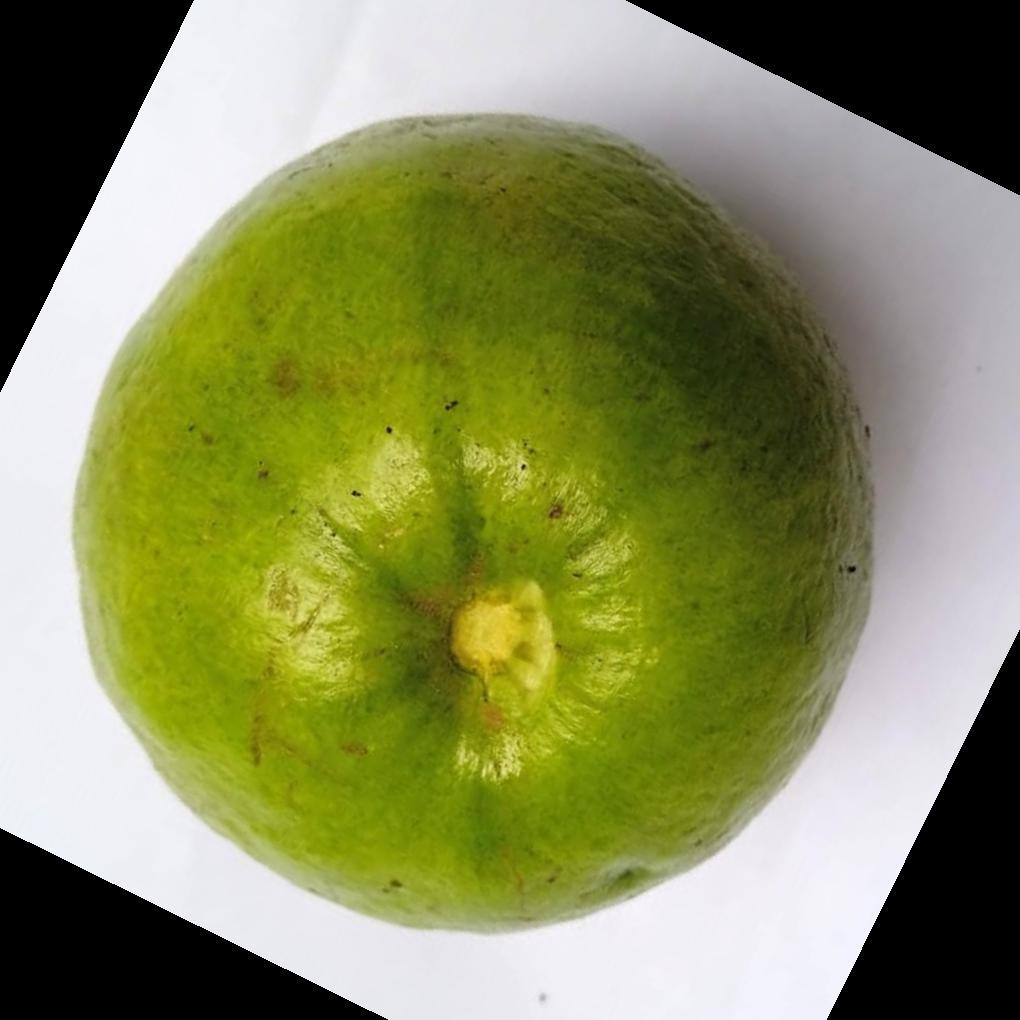FreshGuava: (66, 112, 878, 941)
